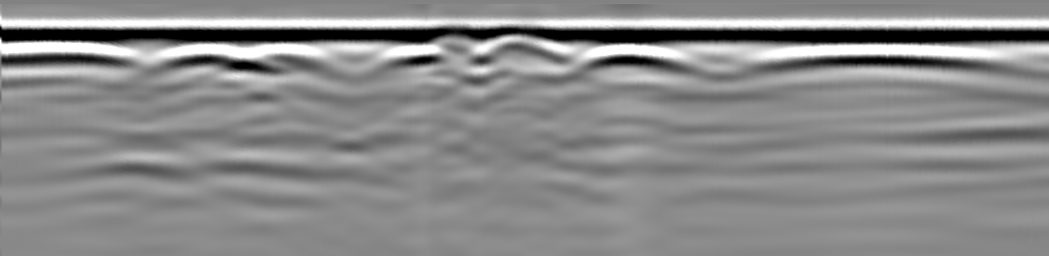pipe: (485, 27, 564, 53), (419, 27, 483, 50)
steel: (767, 47, 1003, 69), (159, 44, 328, 69), (2, 43, 137, 65), (573, 45, 692, 68)
